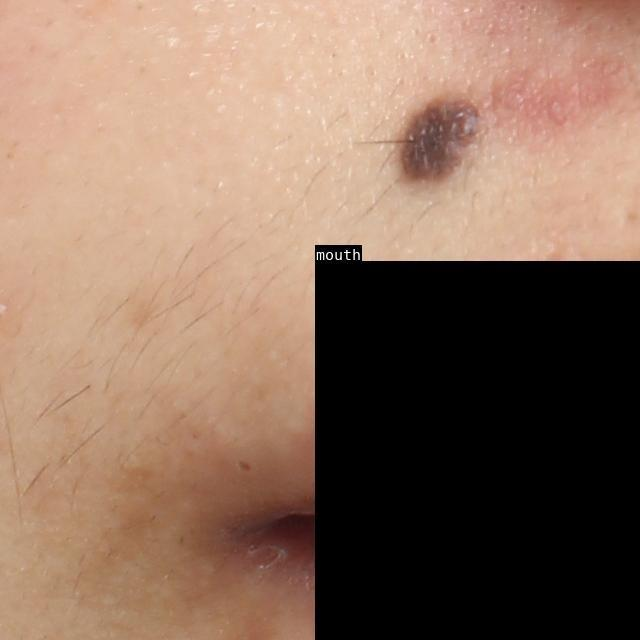comedo: (230, 456, 257, 476)
nevus: (387, 90, 487, 192)
